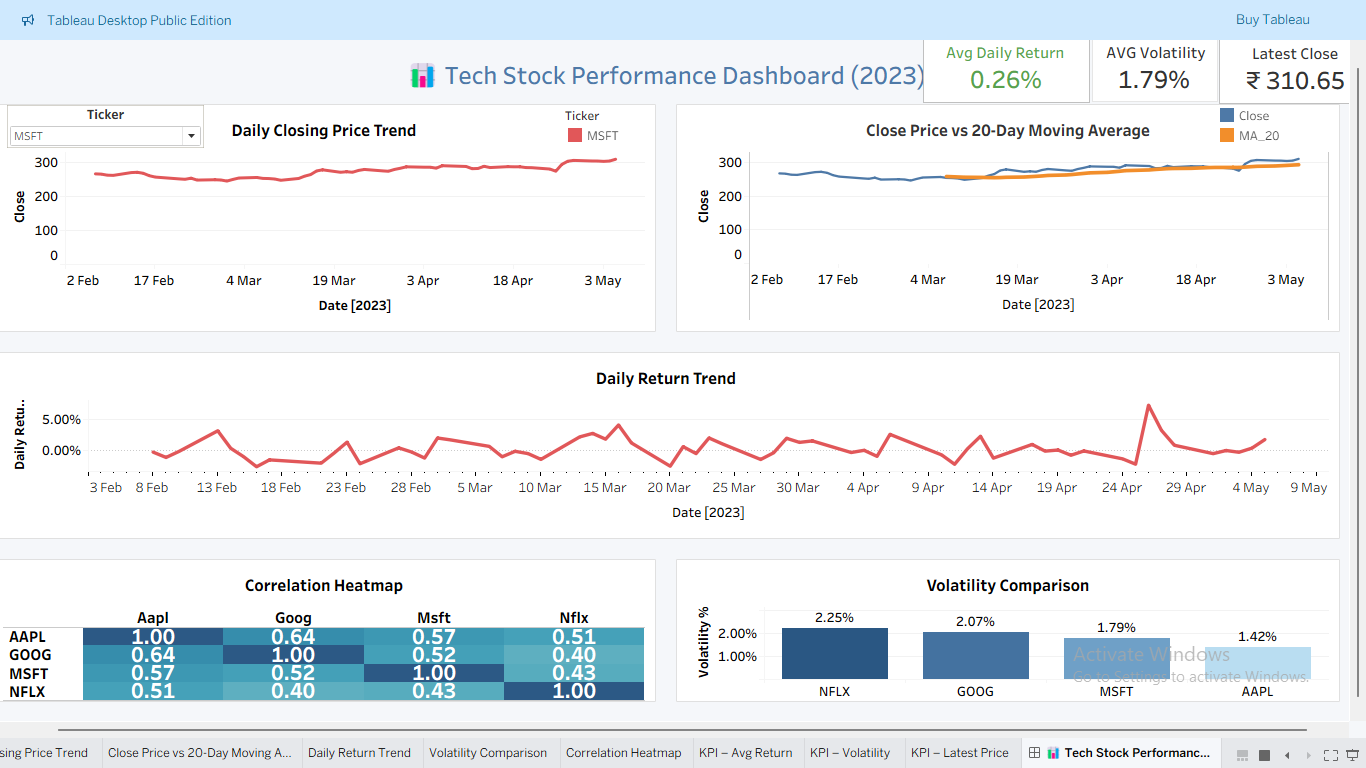

Layout of this report page (visuals, bound fields, positions):
{"tool":"tableau","page":{"name":"📊 Tech Stock Performance Dashboard (2023)","canvas":[1000,1000],"units":"permille","ordinal":0},"visuals":[{"type":"worksheet","title":"KPI – Avg Return","mark":"Automatic","box":[681,11.4,119,95.7]},{"type":"worksheet","title":"KPI – Volatility ","mark":"Automatic","box":[800,12.9,88.7,94.3]},{"type":"title","box":[18.3,37.1,963.4,57.1]},{"type":"worksheet","title":"Daily Closing Price Trend","mark":"Line","rows":["Close"],"cols":["Date"],"box":[18.3,94.3,481.7,354.3]},{"type":"worksheet","title":"Close Price vs 20-Day Moving Average","mark":"Line","rows":["Close","MA_20"],"cols":["Date"],"box":[500,94.3,481.7,354.3]},{"type":"filter","title":"Close Price vs 20-Day Moving Average","param":"[federated.06obs0t0fifz5q1c4ge5w0dly3rs].[none:Ticker:nk]","box":[50,110,138.7,61.4]},{"type":"legend","title":"Close Price vs 20-Day Moving Average","param":"[federated.06obs0t0fifz5q1c4ge5w0dly3rs].[:Measure Names]","box":[888,110,85.9,58.6]},{"type":"legend","title":"Daily Closing Price Trend","param":"[federated.06obs0t0fifz5q1c4ge5w0dly3rs].[none:Ticker:nk]","box":[428.9,112.9,65.5,55.7]},{"type":"worksheet","title":"Daily Return Trend","mark":"Line","rows":["Daily_Return"],"cols":["Date"],"box":[18.3,448.6,963.4,295.7]},{"type":"worksheet","title":"Correlation Heatmap","mark":"Square","rows":["Ticker"],"cols":["Pivot Field Names"],"box":[18.3,744.3,481.7,218.6]},{"type":"worksheet","title":"Volatility Comparison","mark":"Bar","rows":["Calculation_1467336325128192"],"cols":["Ticker"],"box":[500,744.3,481.7,218.6]}]}

Visuals, with their boxes on the dashboard's canvas, which has no fixed pixel size, in thousandths of its width and height (x1, y1, x2, y2). These are canvas units, not pixel positions in the 1366x768 screenshot, which may show the page scaled, cropped or inside an application window:
"KPI – Avg Return" worksheet: <region>681, 11, 800, 107</region>
"KPI – Volatility " worksheet: <region>800, 13, 889, 107</region>
title: <region>18, 37, 982, 94</region>
"Daily Closing Price Trend" worksheet (Line marks): <region>18, 94, 500, 449</region>
"Close Price vs 20-Day Moving Average" worksheet (Line marks): <region>500, 94, 982, 449</region>
"Close Price vs 20-Day Moving Average" filter: <region>50, 110, 189, 171</region>
"Close Price vs 20-Day Moving Average" legend: <region>888, 110, 974, 169</region>
"Daily Closing Price Trend" legend: <region>429, 113, 494, 169</region>
"Daily Return Trend" worksheet (Line marks): <region>18, 449, 982, 744</region>
"Correlation Heatmap" worksheet (Square marks): <region>18, 744, 500, 963</region>
"Volatility Comparison" worksheet (Bar marks): <region>500, 744, 982, 963</region>
